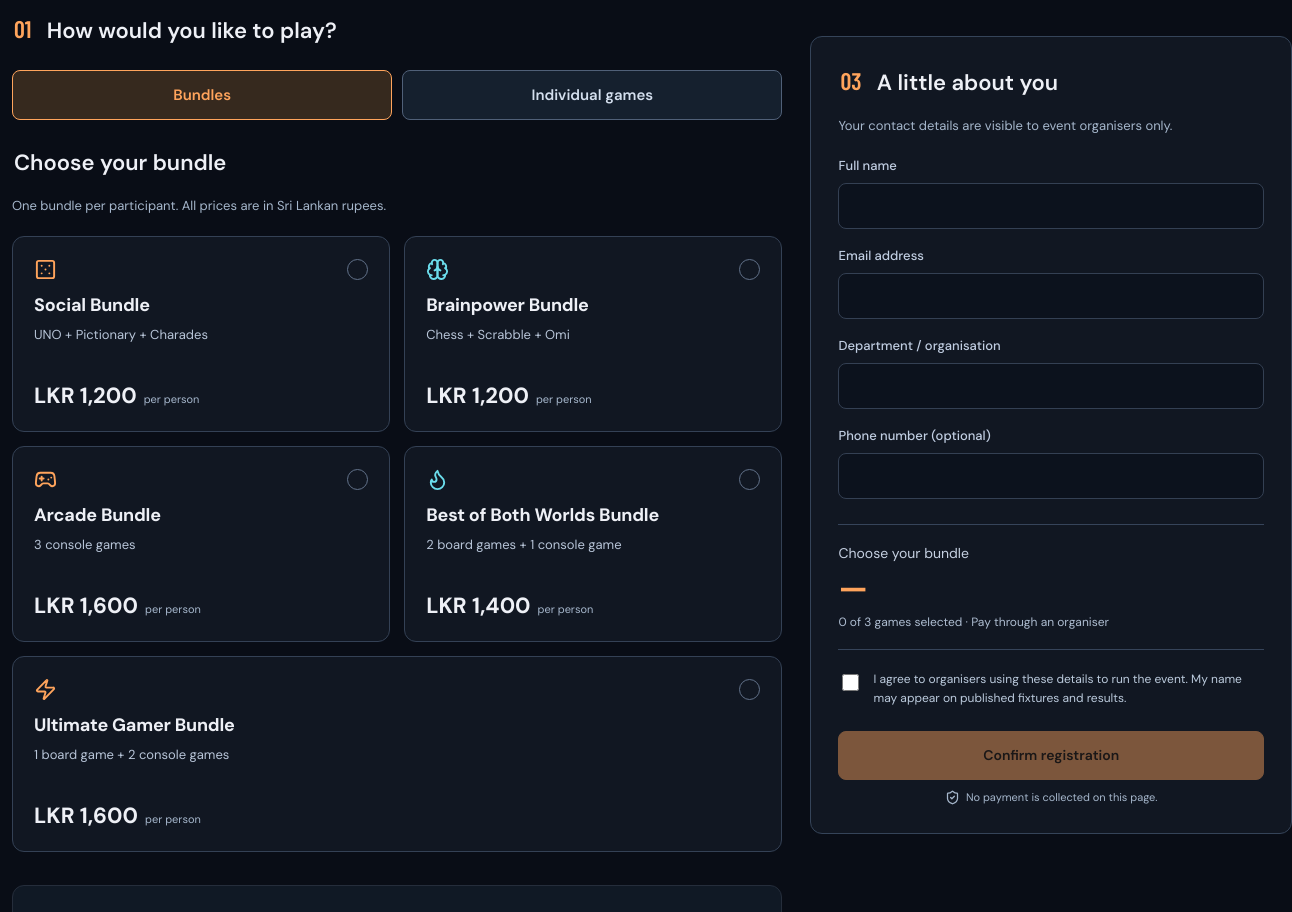
prevents selecting unpriced, disabled and full individual games
Click the button "Individual games". click: (592, 95)
box: [402,70,782,120]
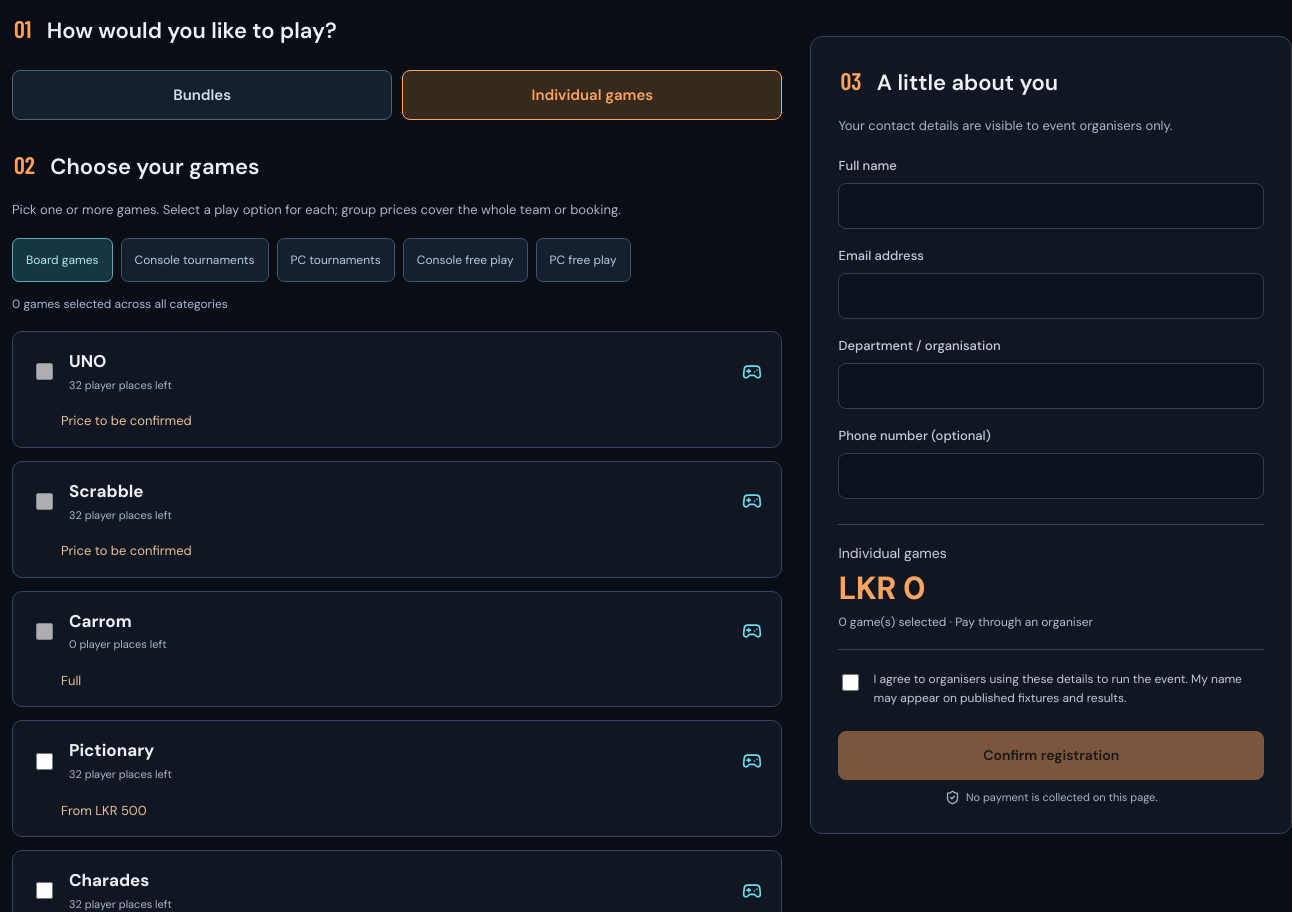
Expected: the checkbox named "Select UNO · Board games" is disabled, [36,363,53,380]
Expected: the text "Price to be confirmed" is shown 2 times, [61,412,192,429]; [61,542,192,559]
Expected: the text "Full" is shown, [61,672,81,689]
